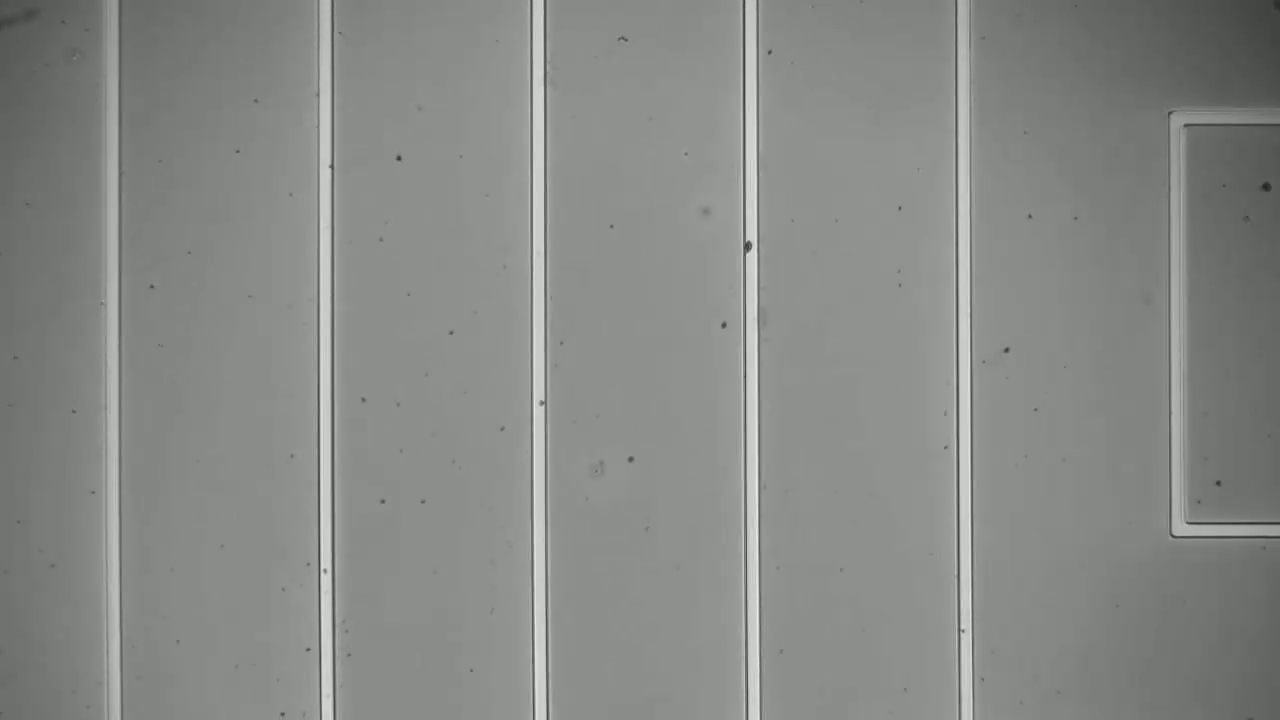stains_enbedded: (736, 238, 765, 256)
